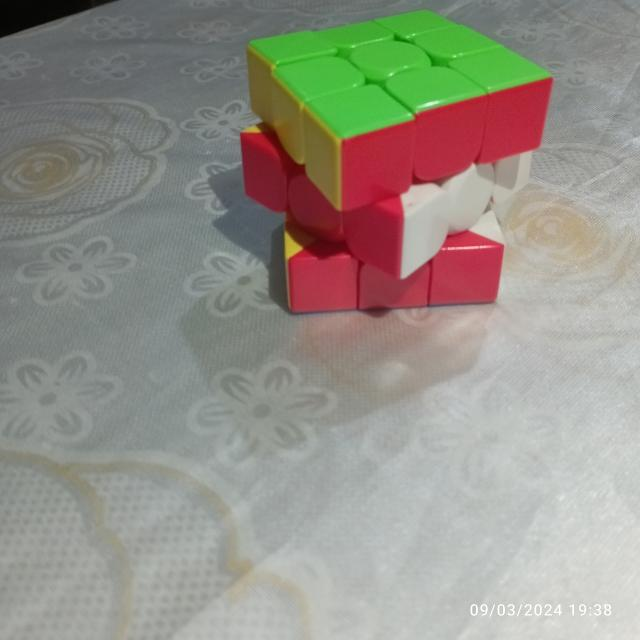Rub: (235, 2, 559, 316)
